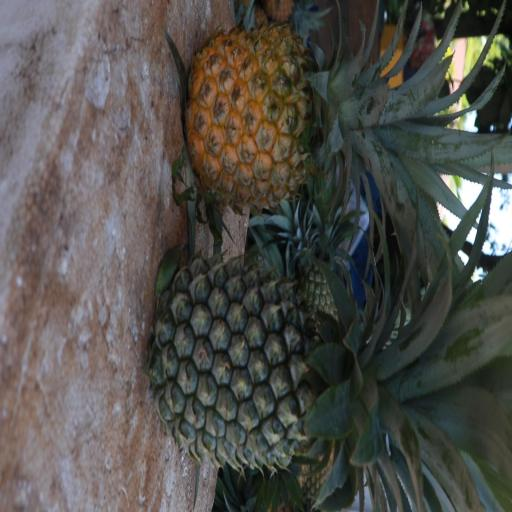Pineapple - v8 v1: (190, 31, 485, 216)
